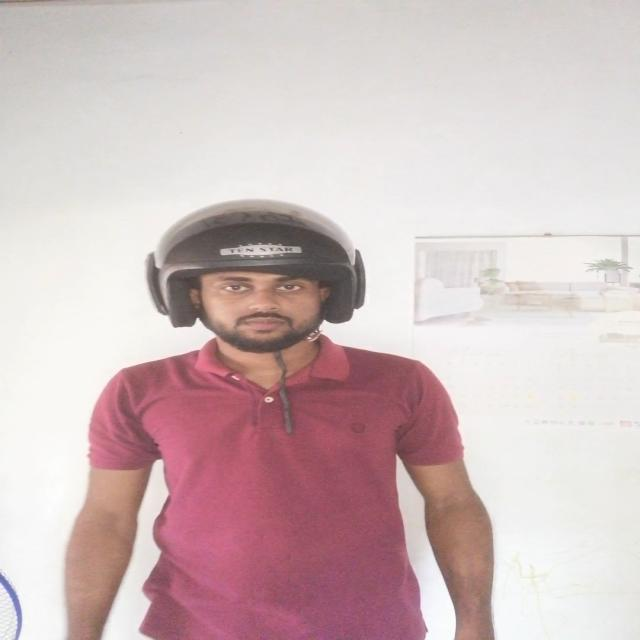Helmet_Wearer: (111, 192, 410, 378)
